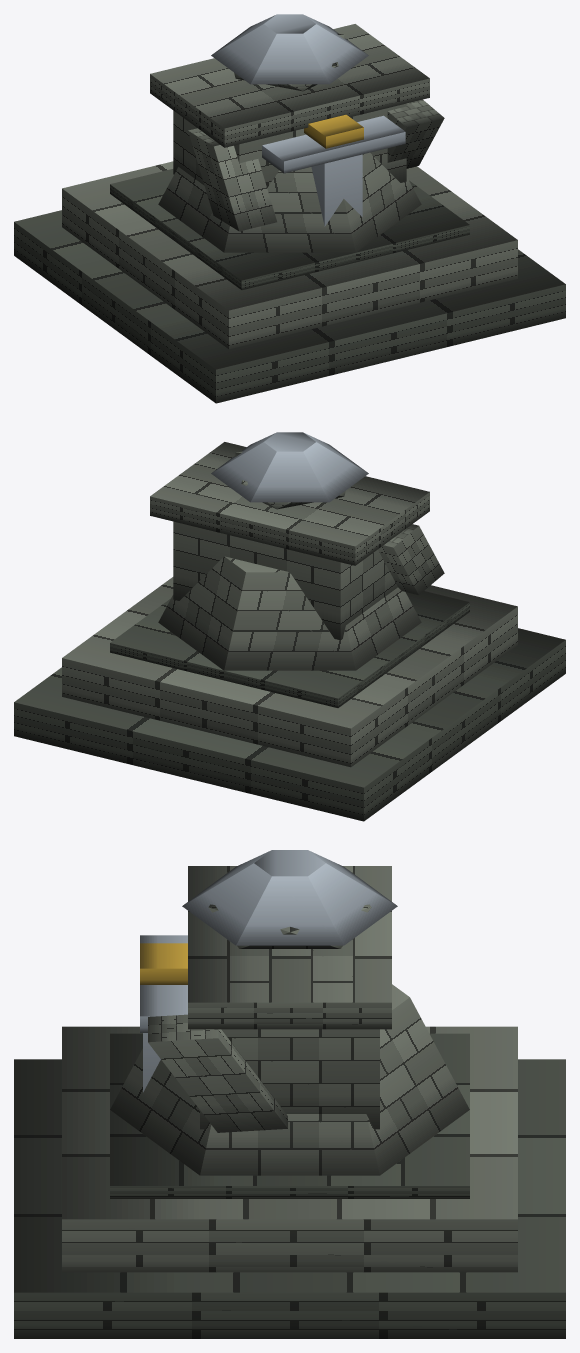
The model's file is statue.gltf.
The picture shows the model from 3 angles, top to bottom: view 1: azimuth 30°, elevation 25°; view 2: azimuth 150°, elevation 25°; view 3: azimuth 270°, elevation 25°; orthographic projection. The views are drawn at different scales.
Parts seen in each view (by area): view 1: statue; view 2: statue; view 3: statue.
Boxes of the visible parts, box(x1,y1,x2,y2) form: statue: box(14, 14, 565, 403); statue: box(14, 432, 565, 821); statue: box(14, 850, 565, 1338).
Bounding box in the file's own units: 0.2116 × 0.1519 × 0.2116.
Materials: 1 (1 with a texture image).
